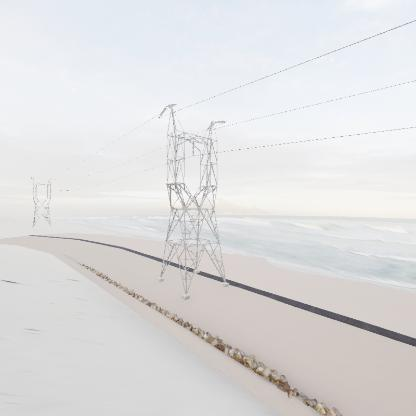tower: (156, 102, 232, 299), (29, 175, 56, 235)
